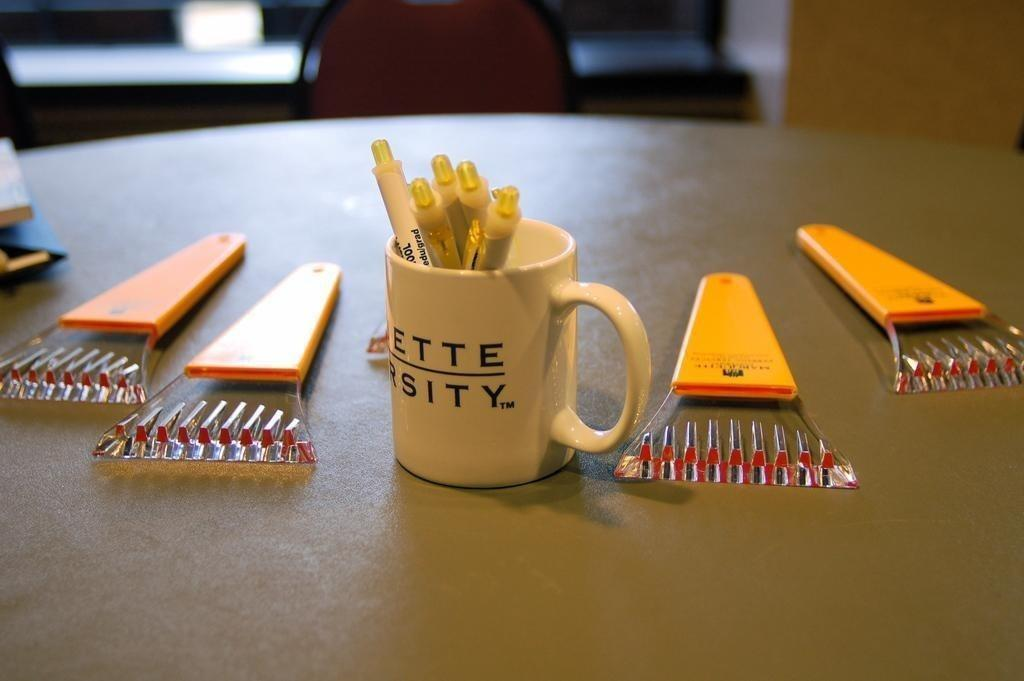cup-handle: (384, 211, 654, 489)
